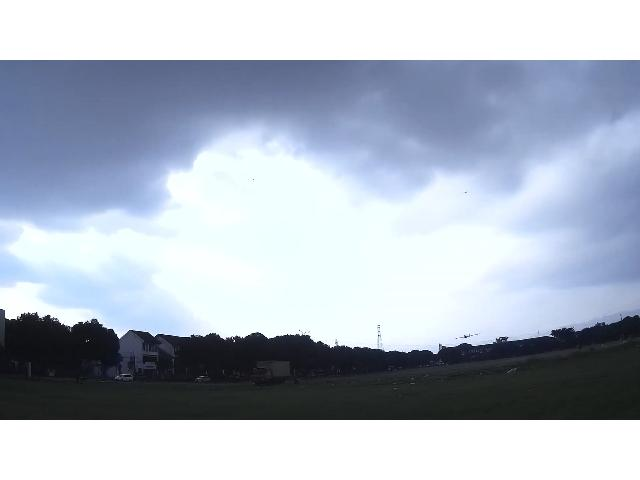Anti-Drone: (455, 333, 481, 338)
